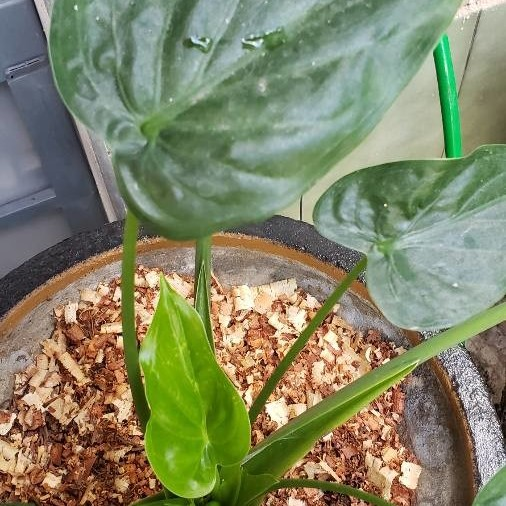obstacle: (52, 24, 485, 481)
